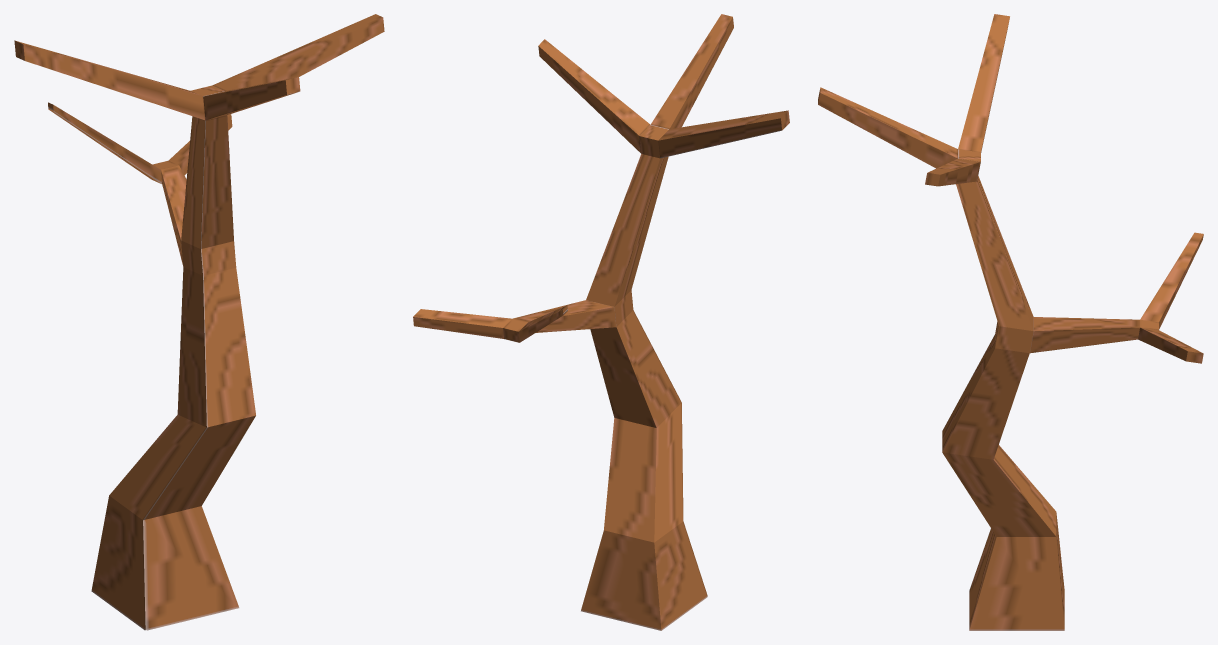
The model's file is ArbolSeco_Textured.FBX.
3 views of the same model, side by side, from view 1: azimuth 30°, elevation 25°; view 2: azimuth 150°, elevation 25°; view 3: azimuth 270°, elevation 25° (orthographic). The views are drawn at different scales.
Parts seen in each view (by area): view 1: Arbol; view 2: Arbol; view 3: Arbol.
Part boxes in pixels (box(x1,y1,x2,y2)): Arbol: box(14, 14, 384, 630); Arbol: box(413, 14, 789, 630); Arbol: box(818, 14, 1203, 630).
Size of the model in its own units: 1168 by 2090 by 1378.
